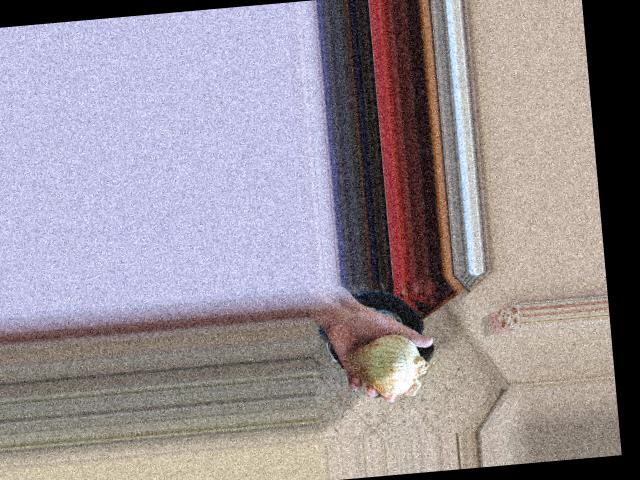onion: (345, 329, 426, 396)
